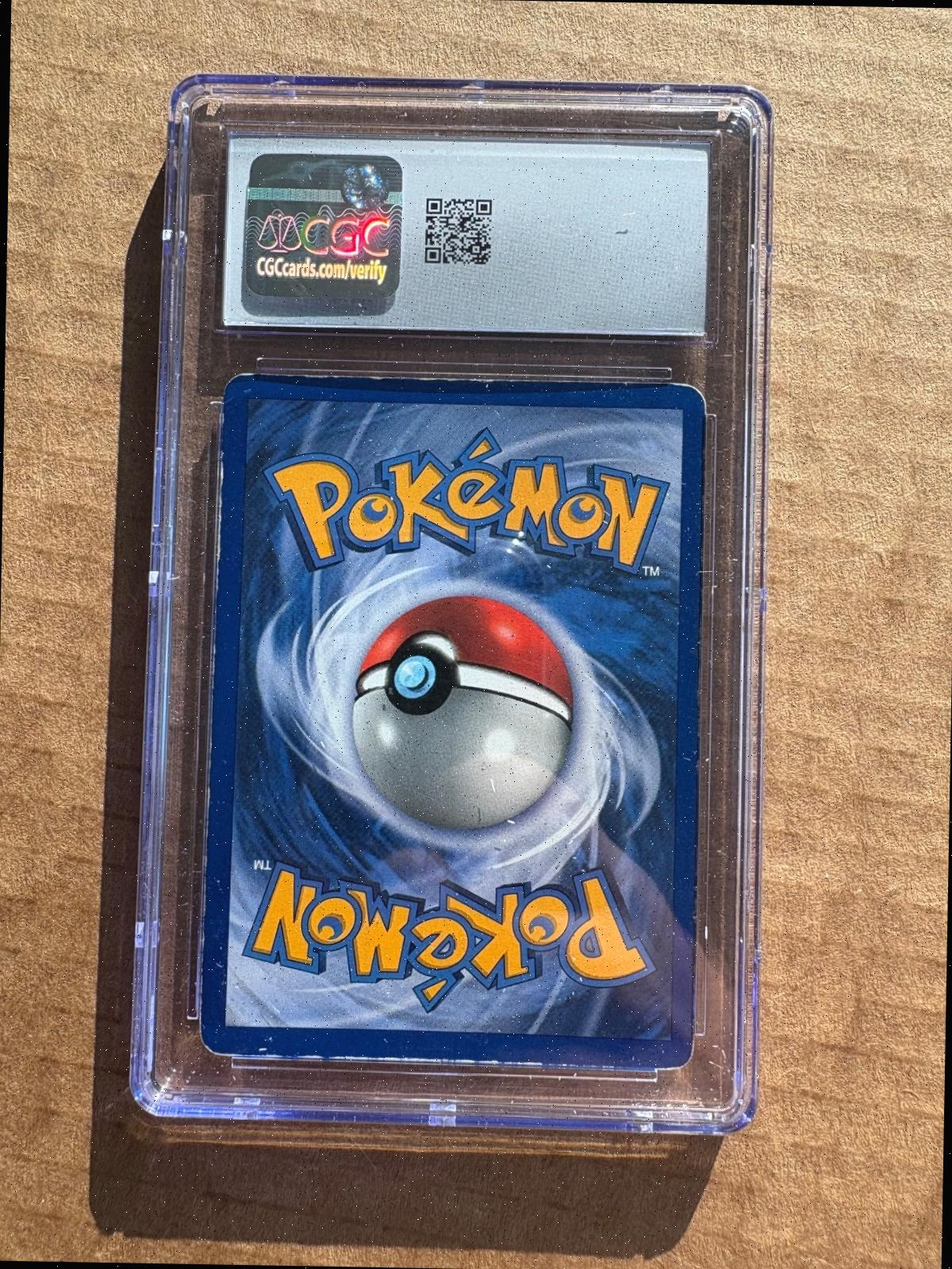card-2UtV: (198, 373, 706, 1071)
